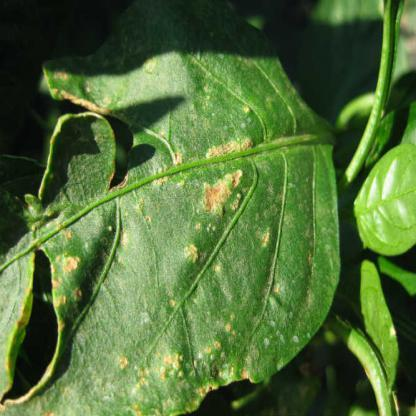Bell_pepper leaf: (2, 24, 346, 415)
